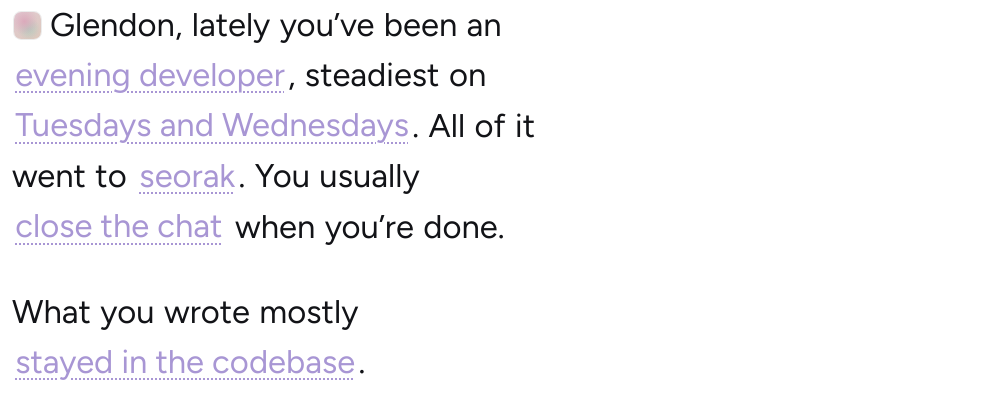
Test: ModelNarrativeRead › opens the cited detail in place on click and toggles it closed
Click the button "evening developer" at (150, 74), box [12, 49, 288, 100]
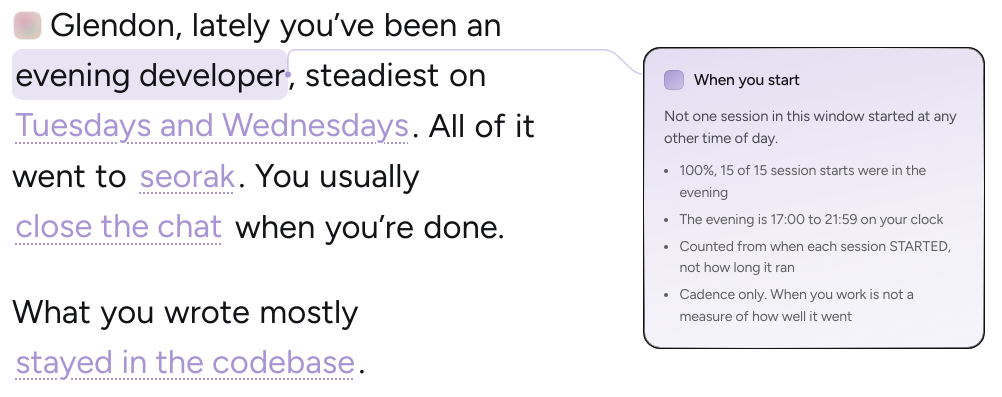
Now the element named "When you start" is shown, box [644, 48, 984, 348]
Now the element named "When you start" shows "in the evening", box [680, 162, 926, 201]
Now the button "evening developer" is expanded
Click the button "evening developer" at (150, 74), box [12, 49, 288, 100]
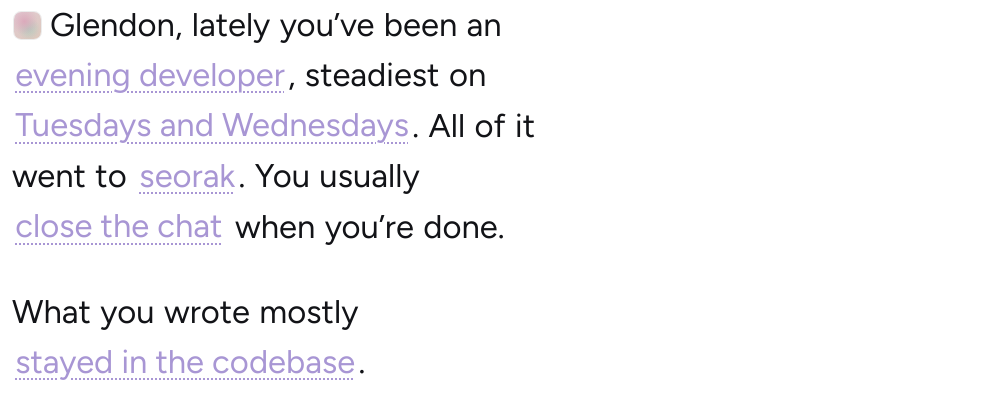
Now the button "evening developer" is collapsed, box [12, 49, 288, 100]
